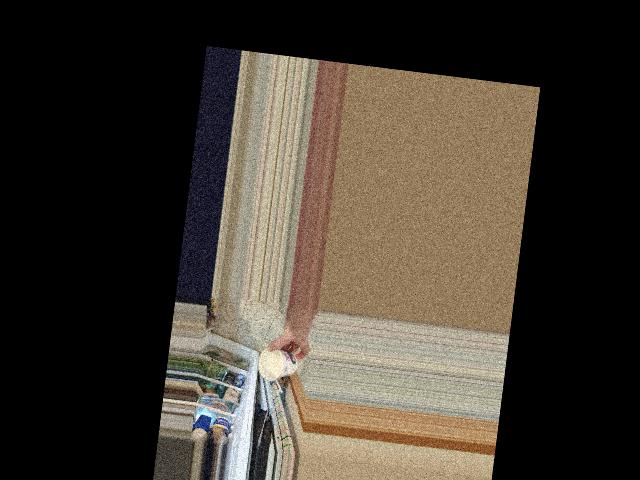cotage: (257, 345, 298, 380)
